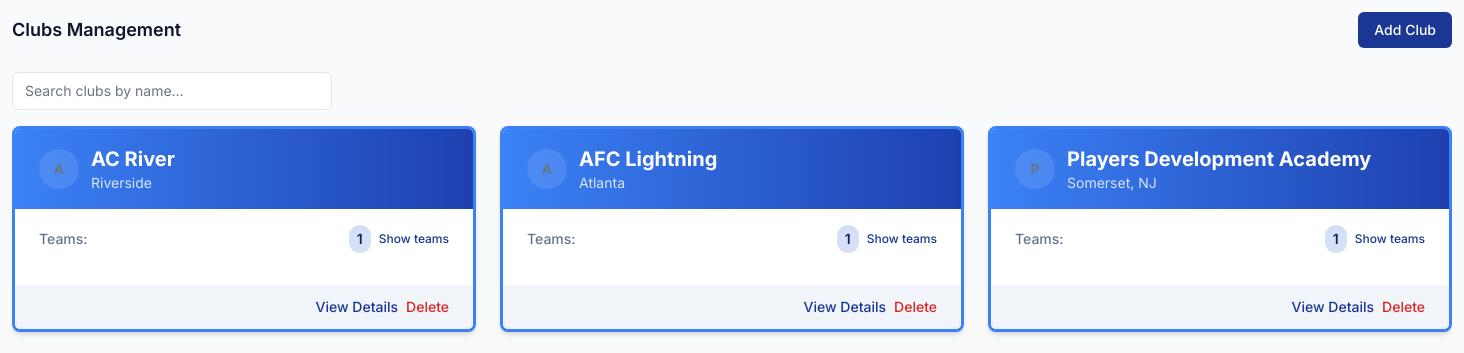
Test: AdminClubs search › filters clubs by name, case-insensitively
Type "PLAYER" into the search field with test id "club-search" at (172, 91), box x1=12 y1=72 x2=332 y2=110
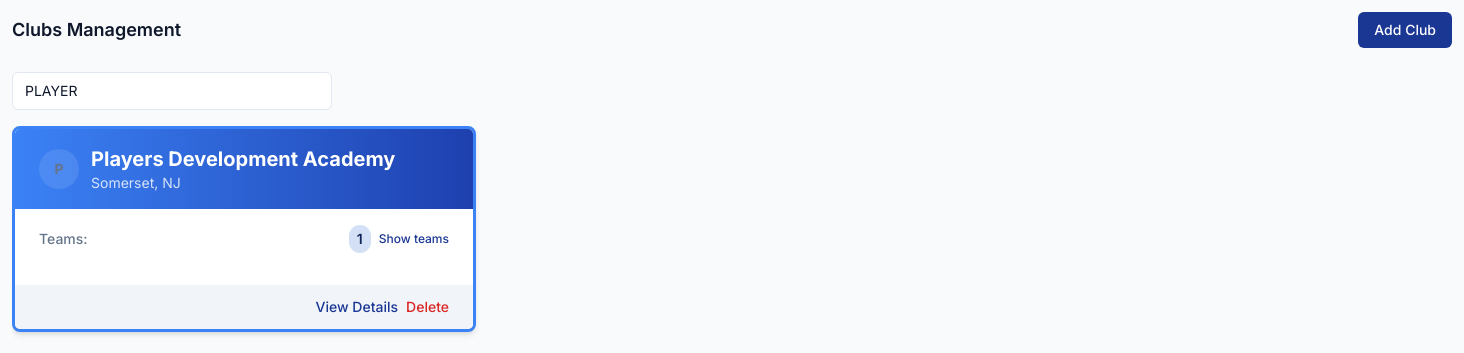
Check: the text "Players Development Academy" is shown, box x1=91 y1=145 x2=395 y2=173
Check: the text "AC River" is gone
Check: the text "AFC Lightning" is gone
